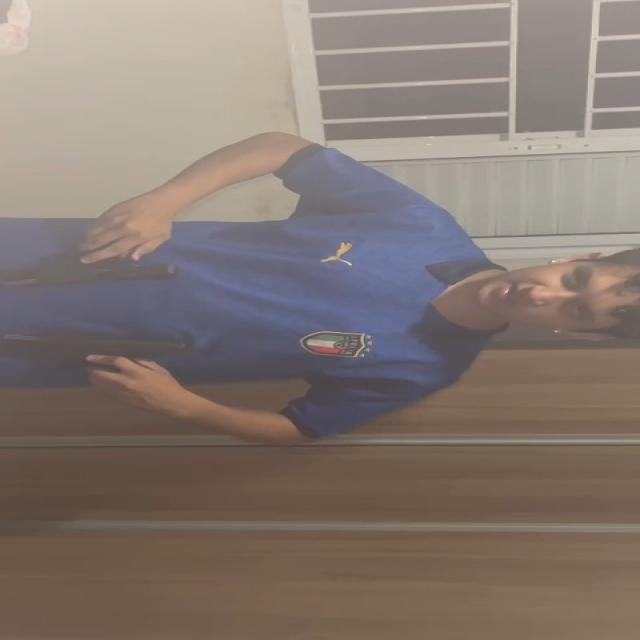guns: (0, 333, 185, 363), (3, 261, 185, 288)
